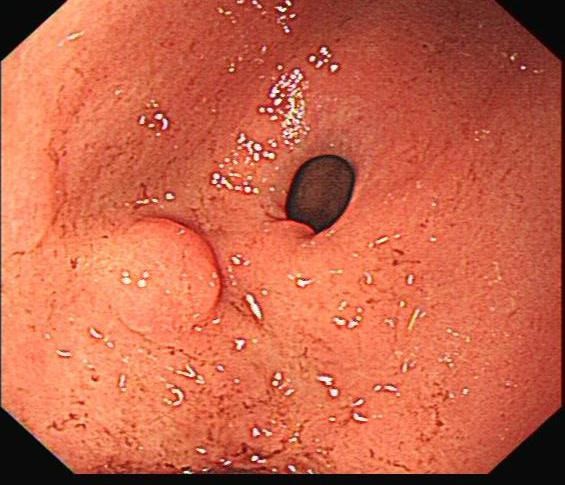Polyp: (92, 202, 226, 338)
